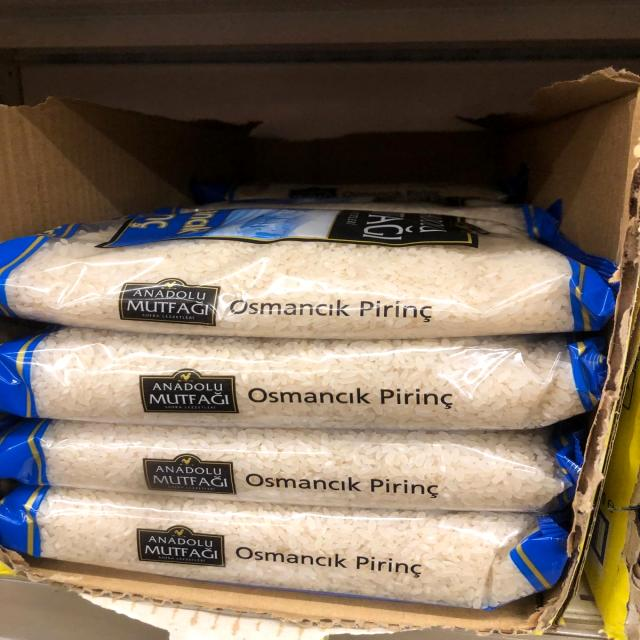rice: (5, 186, 612, 336), (8, 485, 563, 607), (15, 336, 588, 429), (8, 418, 568, 510)
